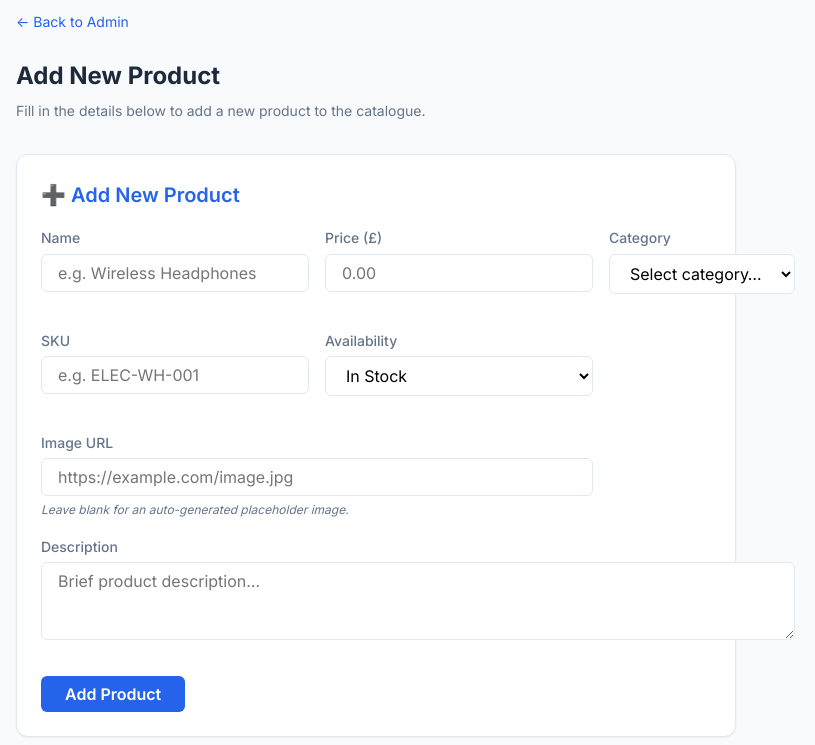
Test: Admin — Add Product Page › shows validation error for invalid price
The image size is (815, 745).
Type "Test" into the field labelled "Name".
click(175, 273); type("Test")  # box 41,254 -> 309,292
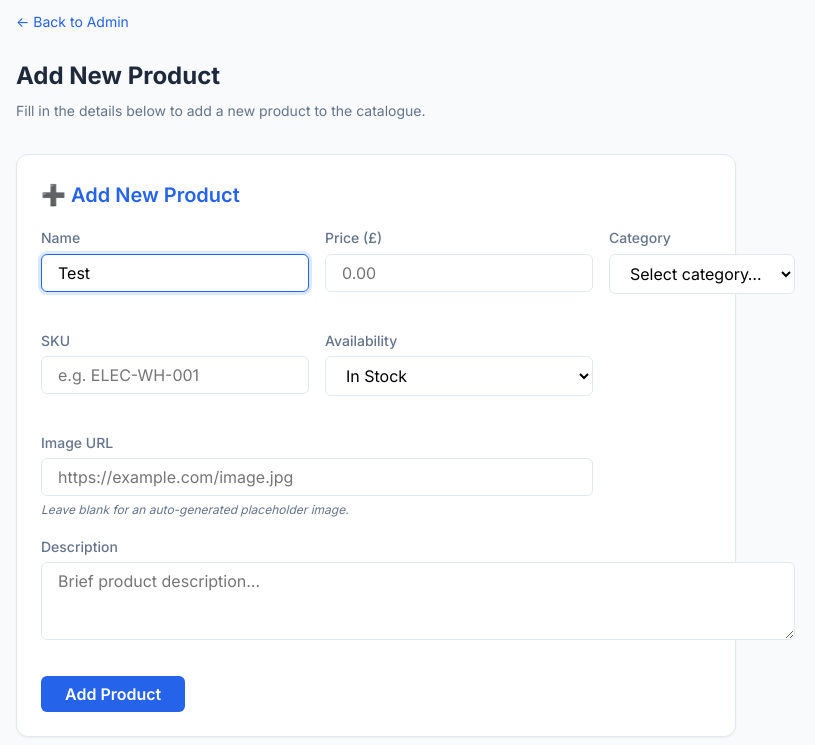
Type "desc" into the text box labelled "Description".
click(418, 601); type("desc")  # box 41,562 -> 795,640
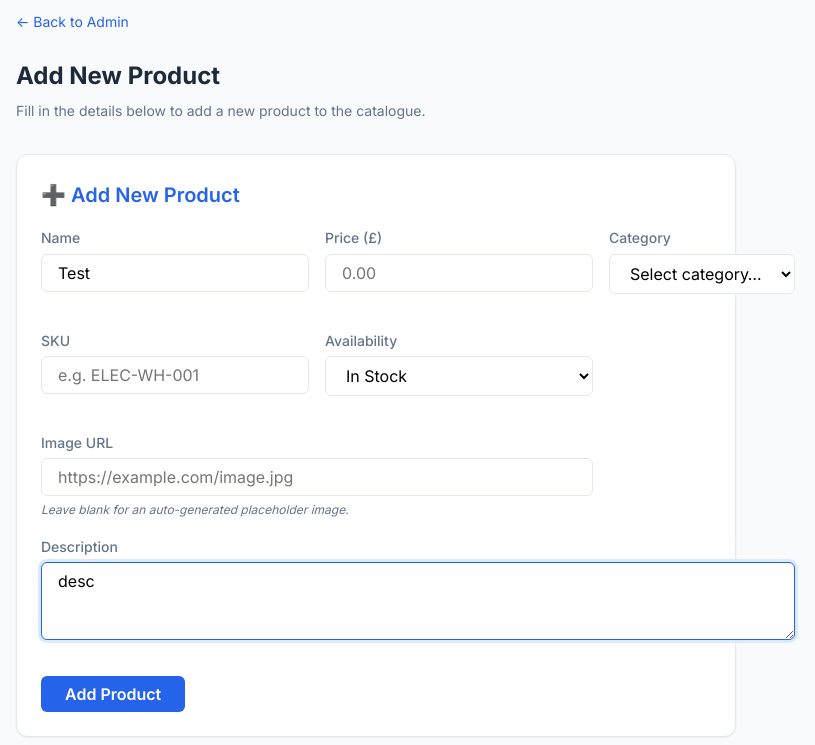
Select "Home" in the dropdown labelled "Category" at (702, 274), box 609,254 -> 795,294
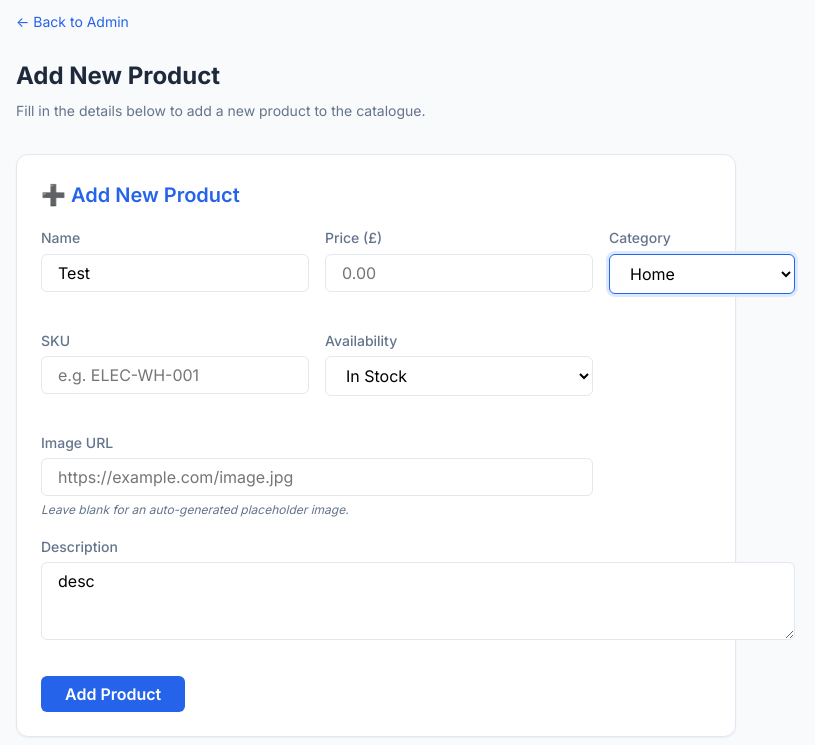
Type "TEST-002" into the field labelled "SKU".
click(175, 375); type("TEST-002")  # box 41,356 -> 309,394
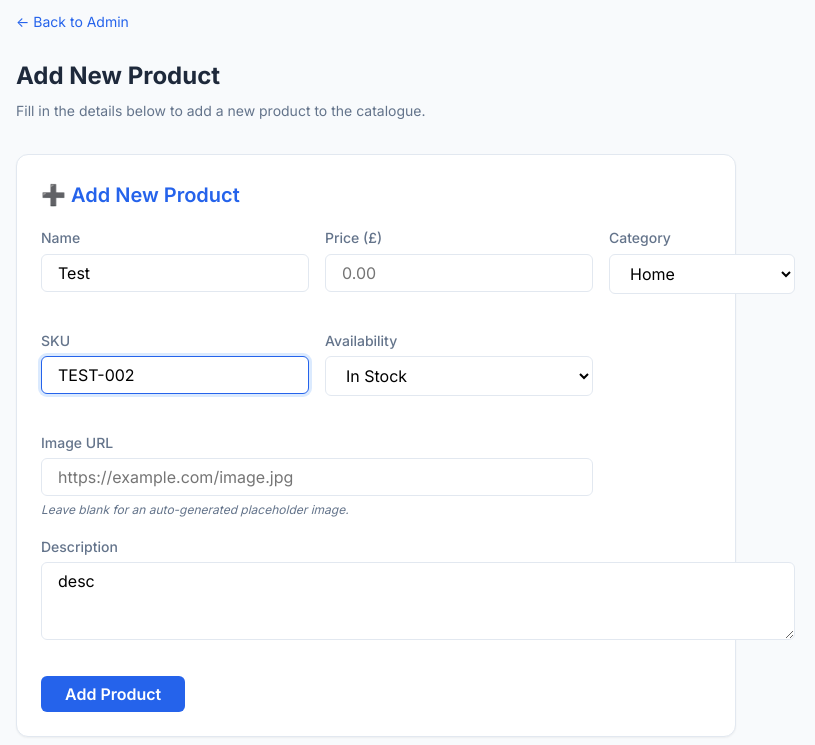
Click the button "Add Product".
click(113, 694)  # box 41,676 -> 185,712
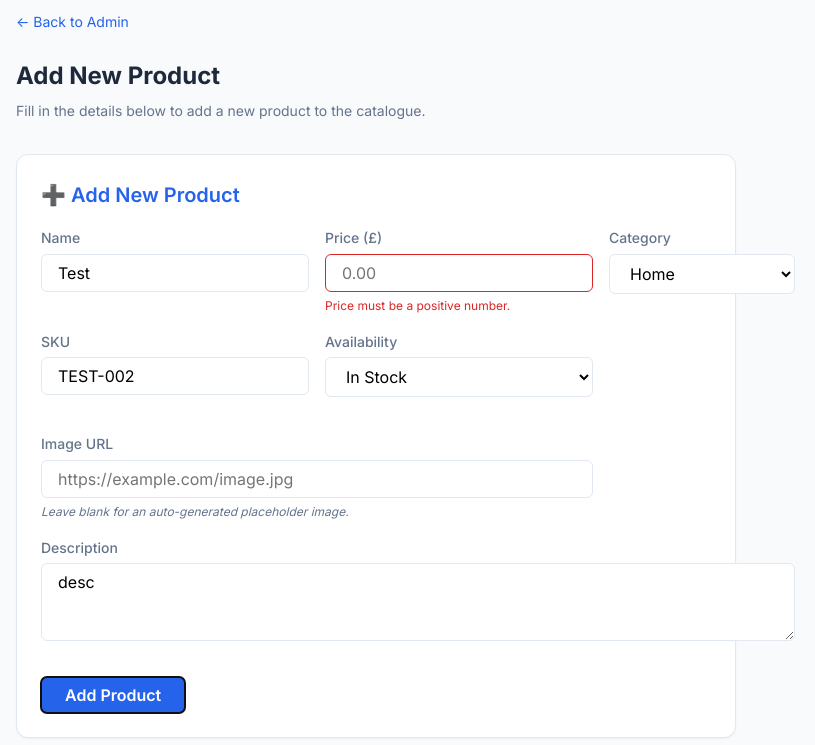
expect the text "Price must be a positive number." is shown: met, box 325,298 -> 510,313
